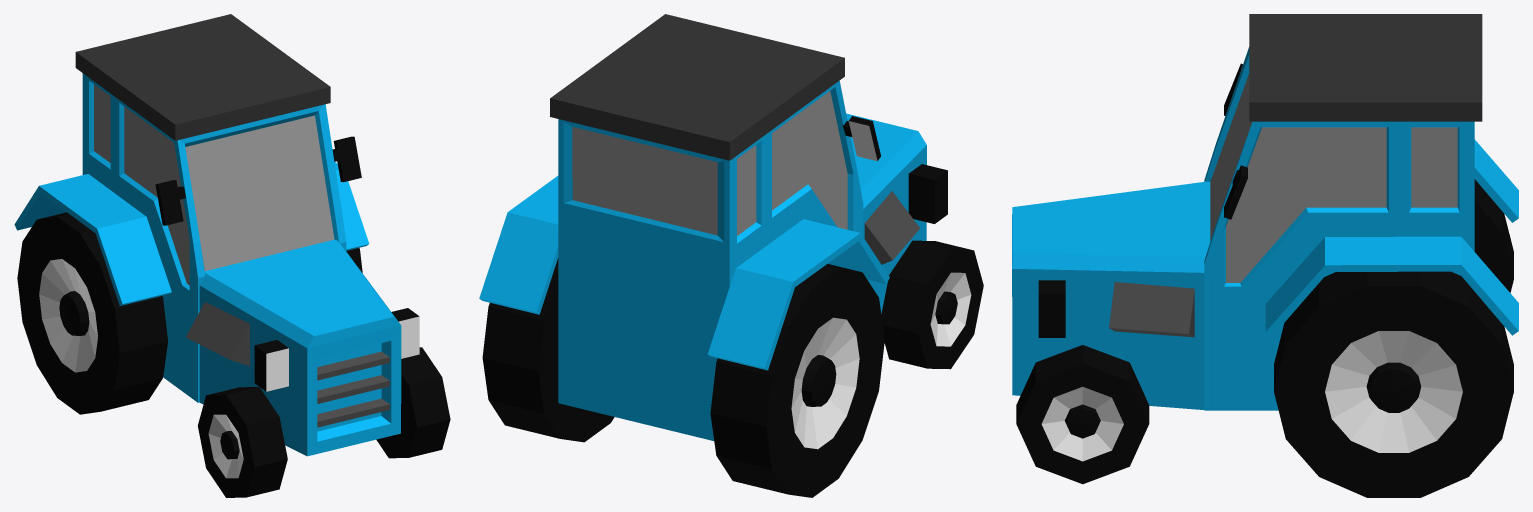
File: tractor_2.FBX
3 renders of one model, left to right at view 1: azimuth 30°, elevation 25°; view 2: azimuth 150°, elevation 25°; view 3: azimuth 270°, elevation 25°, orthographic. The views are drawn at different scales.
Visible parts, largest first — view 1: tractor_2; view 2: tractor_2; view 3: tractor_2.
Boxes of the visible parts, x1,y1,x2,y2 form: tractor_2: (14,14,450,497); tractor_2: (479,14,983,497); tractor_2: (1012,14,1518,497).
Bounding box in the file's own units: 2.43 × 2.98 × 3.7.
Materials: 2 (1 with a texture image).
